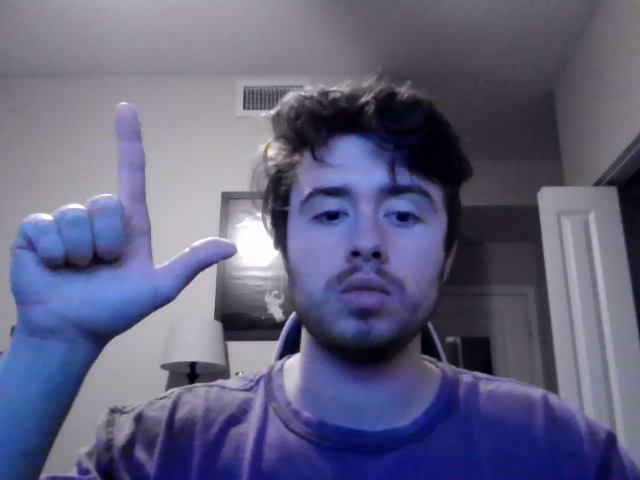l: (9, 102, 237, 368)
